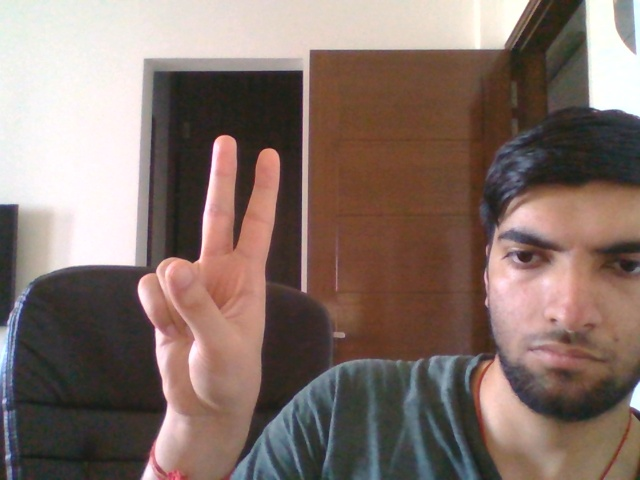LetterV: (134, 130, 282, 423)
